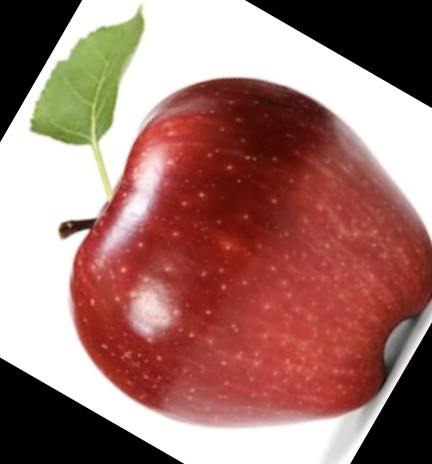fresh_apple: (70, 76, 432, 429)
